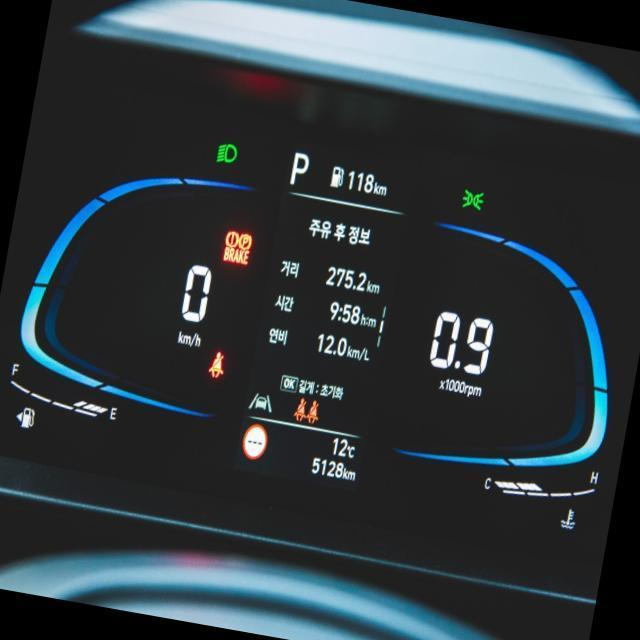LaneCenteringOff: (247, 389, 273, 413)
Low beam: (214, 138, 238, 166)
SideLamp: (459, 186, 484, 212)
